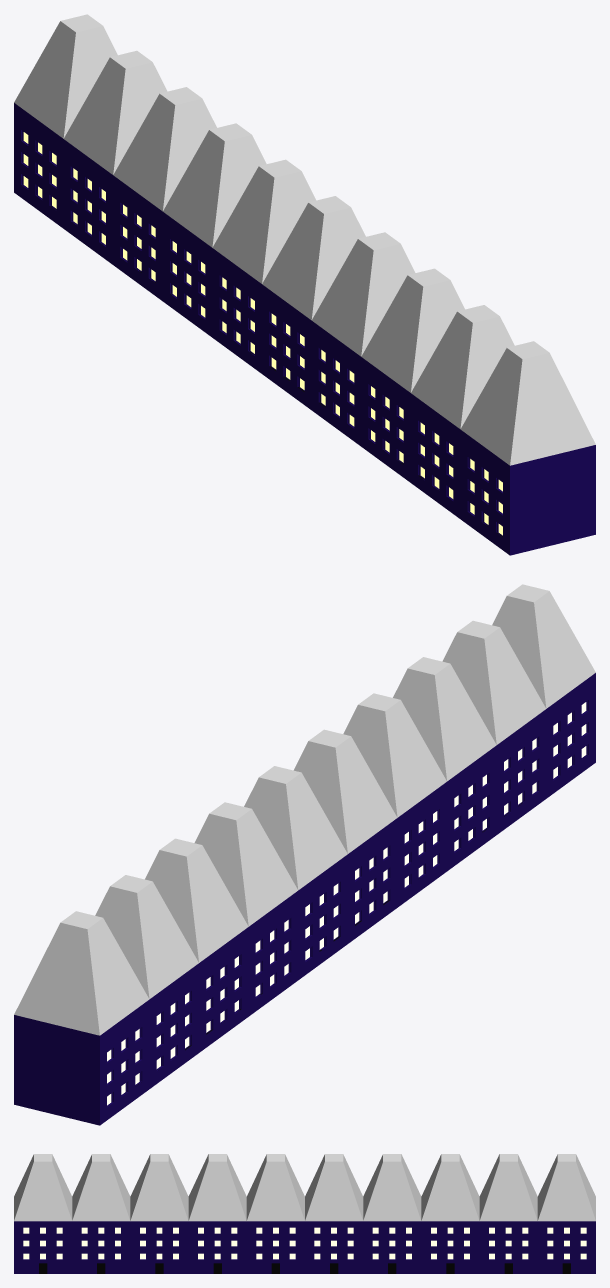
Rendered from 3_storey_house_4.fbx.
3 views of the same model, one above another, from view 1: azimuth 30°, elevation 25°; view 2: azimuth 150°, elevation 25°; view 3: azimuth 270°, elevation 25° (orthographic). The views are drawn at different scales.
Visible parts, largest first — view 1: Cube; view 2: Cube; view 3: Cube.
Boxes of the visible parts, box(x1,y1,x2,y2) form: Cube: box(14, 14, 595, 555); Cube: box(14, 584, 595, 1125); Cube: box(14, 1154, 595, 1273).
Bounding box in the file's own units: 28 × 55.07 × 280.
